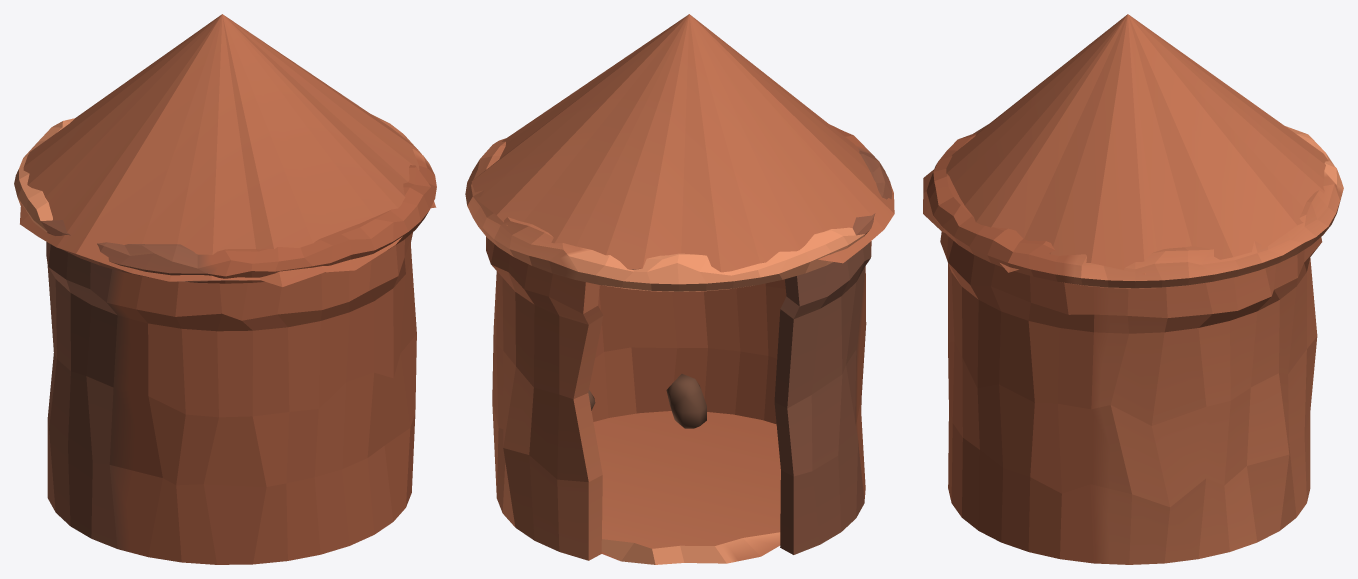
Rendered from structures.glb.
3 views of the same model, side by side, from view 1: azimuth 30°, elevation 25°; view 2: azimuth 150°, elevation 25°; view 3: azimuth 270°, elevation 25° (orthographic). The views are drawn at different scales.
Visible parts, largest first — view 1: hut; view 2: hut; view 3: hut.
Boxes of the visible parts, box(x1,y1,x2,y2) form: hut: box(14, 14, 436, 564); hut: box(465, 14, 894, 564); hut: box(923, 14, 1343, 564).
Bounding box in the file's own units: 1.01 × 1.25 × 1.01.
1 material, 1 textured.
